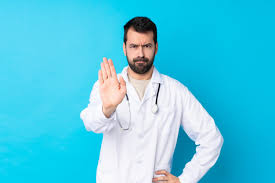white_male: (117, 18, 162, 75)
